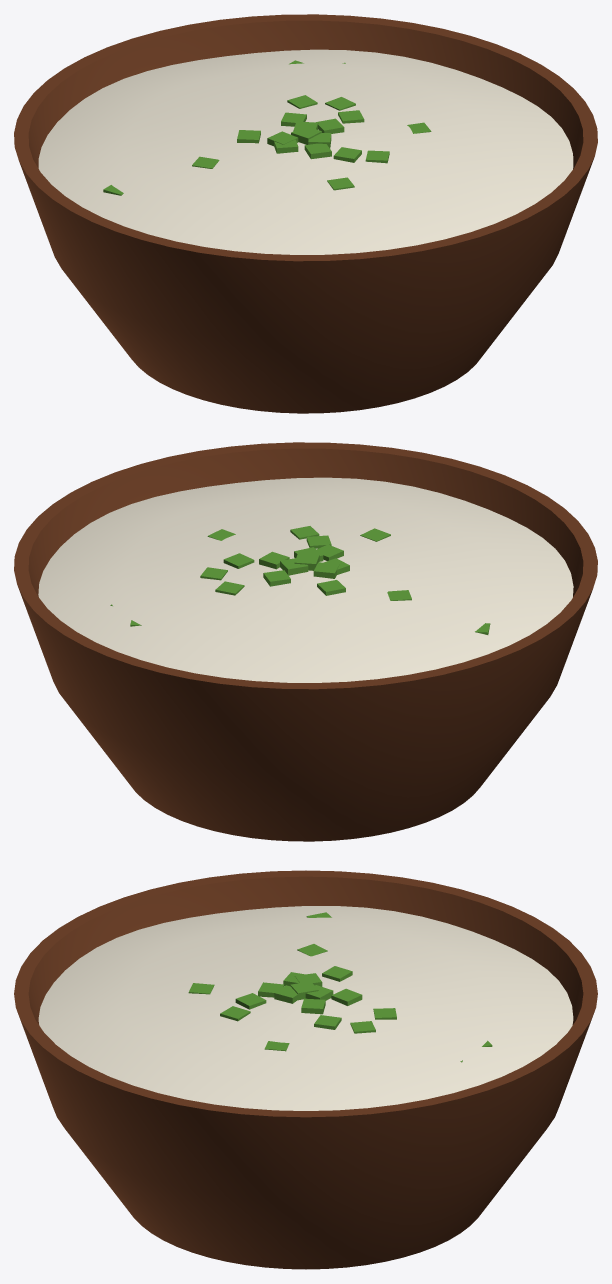
File: cumbuca-branco+brocolis.glb
3 views of the same model, one above another, from view 1: azimuth 30°, elevation 25°; view 2: azimuth 150°, elevation 25°; view 3: azimuth 270°, elevation 25° (orthographic).
Visible parts, largest first — view 1: cumbuca-branco+brocolis; view 2: cumbuca-branco+brocolis; view 3: cumbuca-branco+brocolis.
Part boxes in pixels (x1,y1,x2,y2): cumbuca-branco+brocolis: (14,14,597,413); cumbuca-branco+brocolis: (14,442,597,841); cumbuca-branco+brocolis: (14,870,597,1269).
Bounding box in the file's own units: 0.16 × 0.062 × 0.16.
